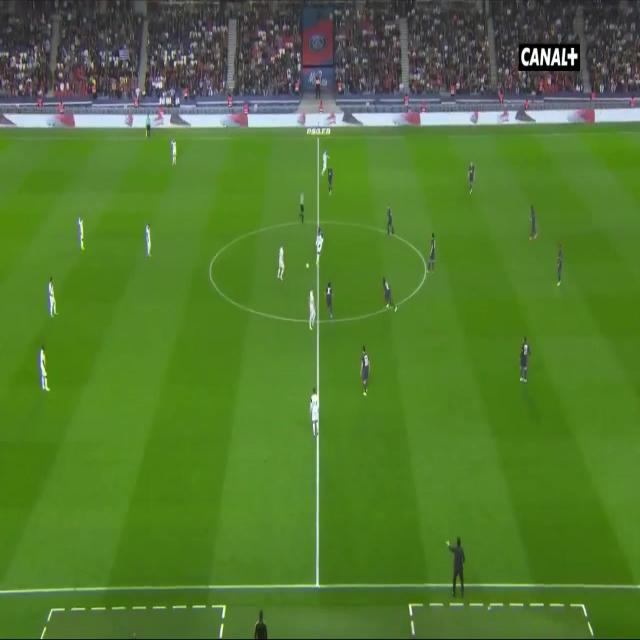Ball: (304, 259, 311, 273)
Player: (357, 341, 373, 398), (380, 274, 399, 314), (308, 386, 322, 440), (517, 335, 531, 388), (526, 200, 539, 248), (554, 242, 566, 294), (322, 280, 336, 323), (39, 344, 51, 394), (306, 286, 318, 335), (426, 230, 438, 278), (275, 242, 287, 286), (47, 276, 58, 320), (314, 224, 325, 267), (77, 213, 88, 254), (466, 157, 477, 197), (384, 205, 396, 238), (320, 150, 331, 178), (170, 137, 180, 167), (145, 222, 153, 256), (327, 166, 334, 198)
Referee: (298, 191, 307, 224), (143, 113, 152, 143)
